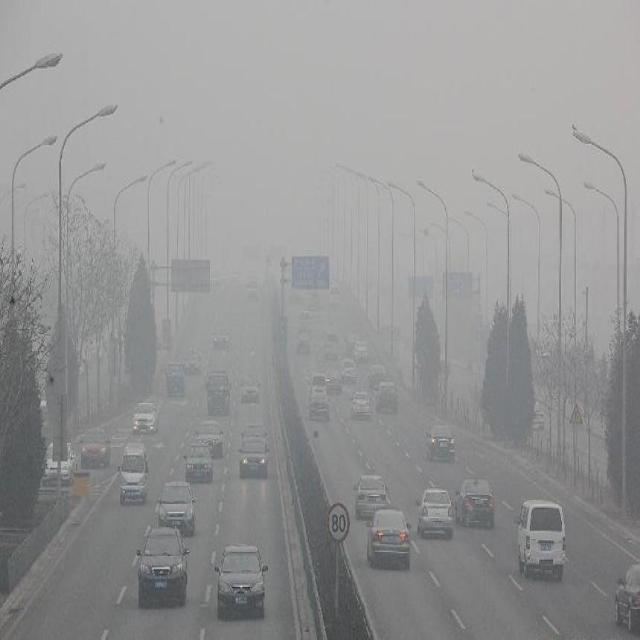Car: (135, 524, 188, 608), (214, 544, 268, 618), (366, 506, 412, 570), (156, 480, 196, 537), (454, 476, 494, 529), (416, 488, 456, 540), (611, 560, 640, 629), (354, 473, 388, 523), (42, 442, 76, 488), (236, 438, 270, 478), (193, 420, 225, 461), (204, 370, 232, 416), (183, 444, 214, 484), (426, 424, 456, 464), (80, 428, 110, 468), (132, 401, 158, 436), (376, 381, 398, 414), (350, 390, 373, 420), (308, 395, 330, 422), (240, 422, 268, 440), (368, 362, 387, 388), (240, 380, 260, 403), (310, 372, 328, 397), (340, 358, 357, 384), (325, 370, 342, 395), (296, 332, 311, 356), (186, 352, 202, 374), (354, 341, 368, 364), (212, 331, 230, 348), (246, 283, 258, 302)
Van: (516, 500, 566, 580), (118, 440, 150, 503)
